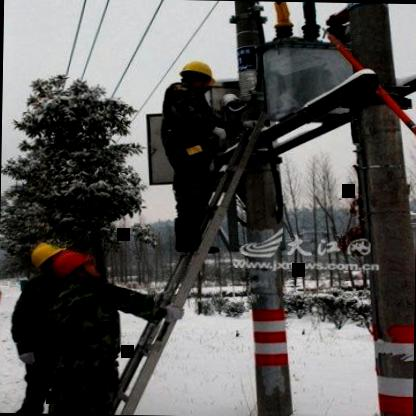helmet: (52, 250, 102, 284), (176, 57, 218, 92), (29, 240, 64, 274)
